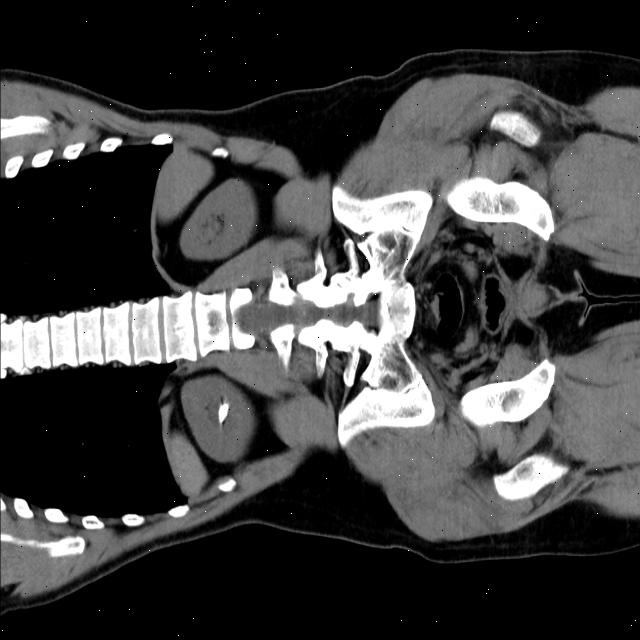kidneystone: (218, 401, 229, 423)
